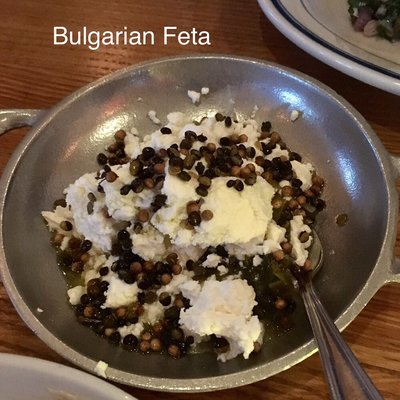sushi: (6, 55, 399, 396)
